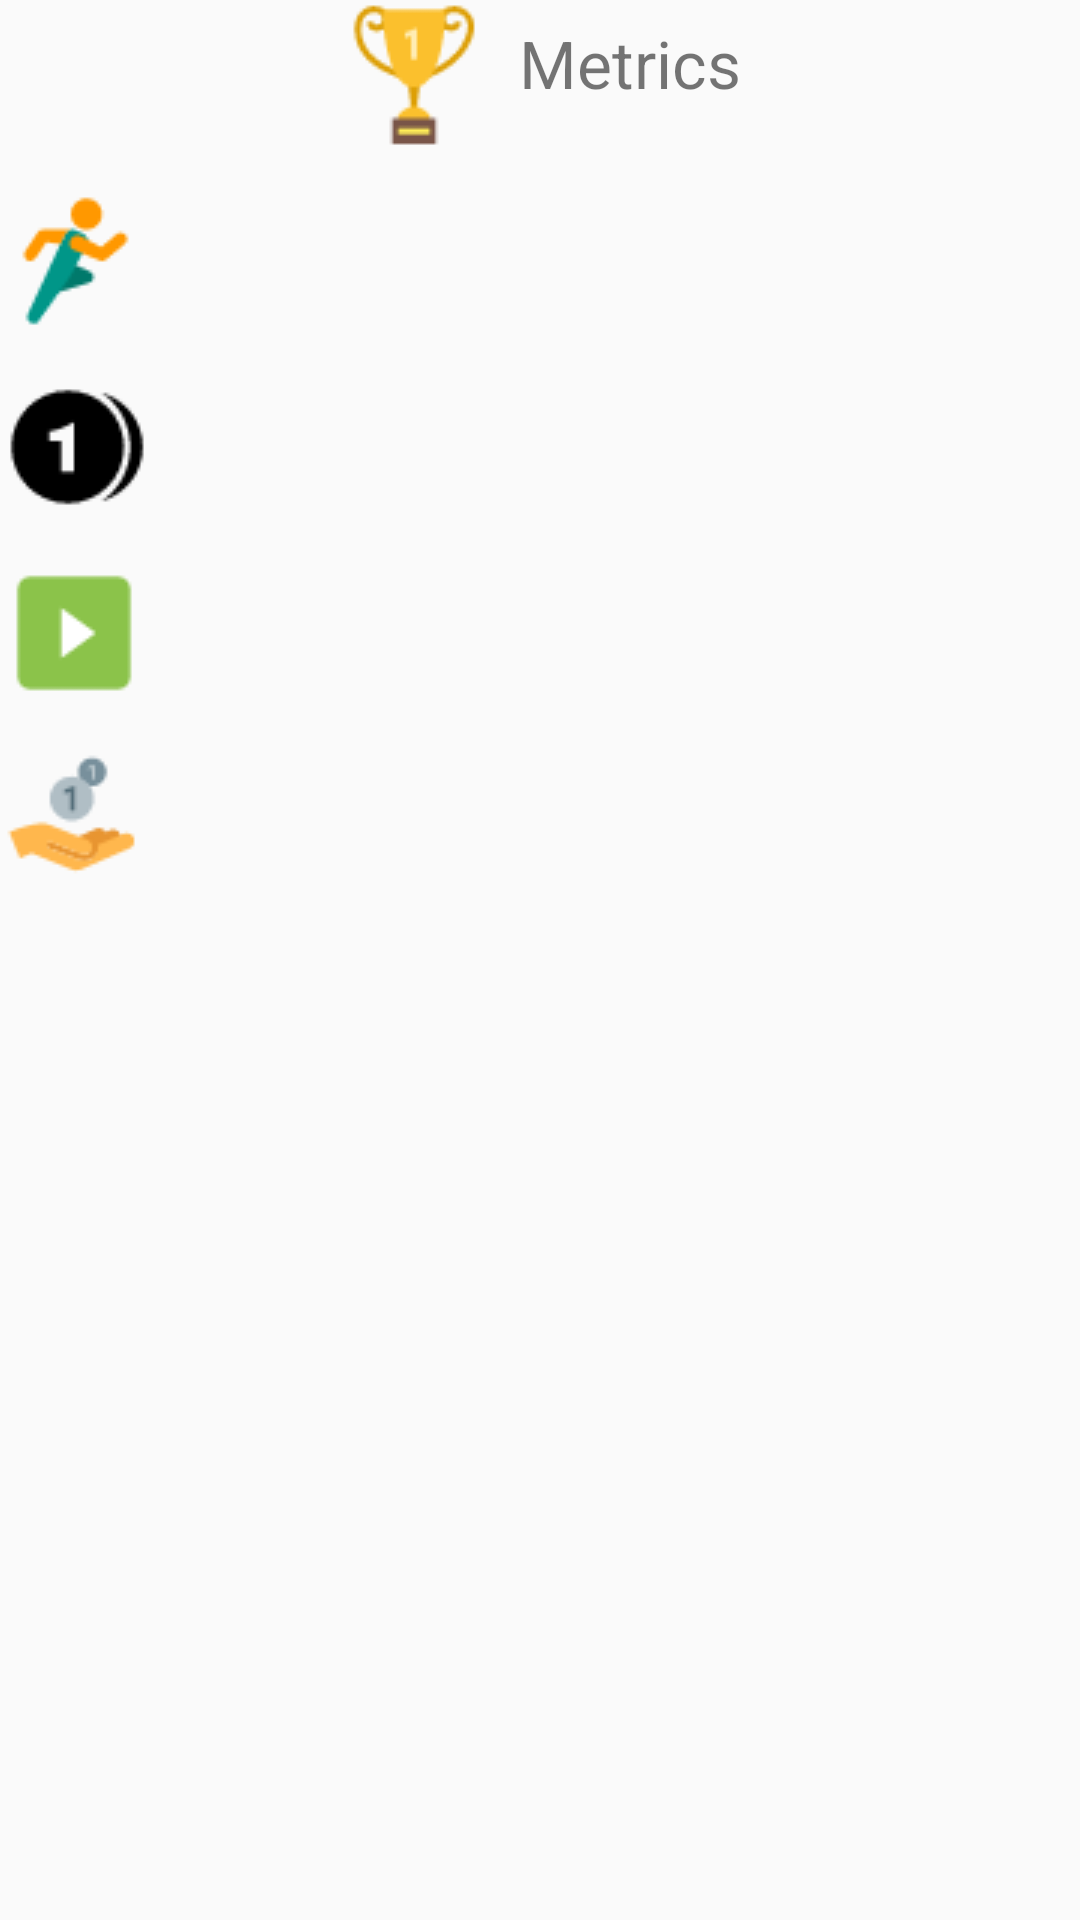

Screen size 1080*1920. Icon name, then its center in pixels as point (x, y):
next: point (74, 633)
receivecash: point (71, 814)
sportsmode: point (75, 261)
trophy: point (414, 75)
